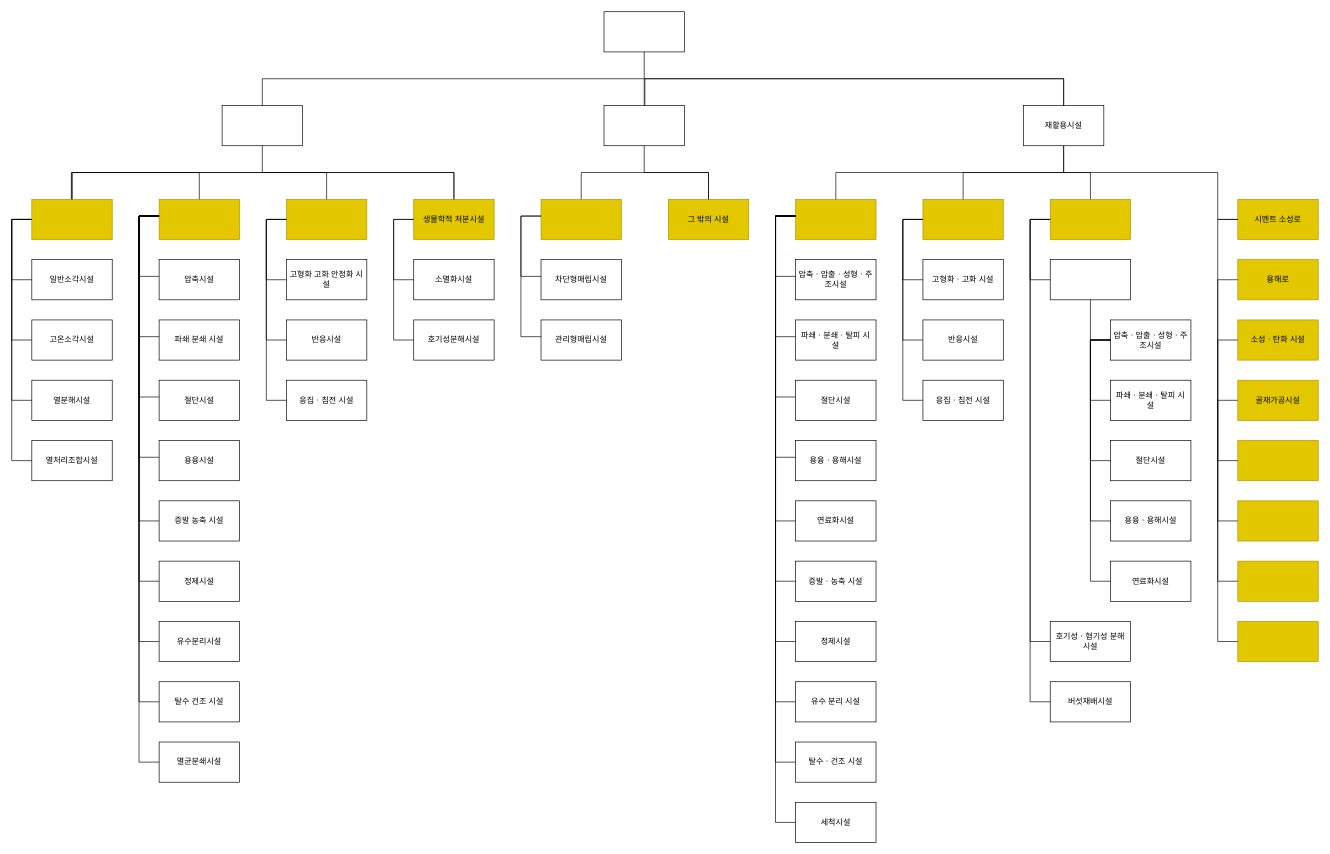
Some shapes in this 1330 by 854 pixel diagram are drawn without their labels. The centre of each missing label's shape, as x and y in pixels:
1일 재활용능력이 100킬로그램 이상인 다음의 시설: point 1090,279
그밖의 시설: point 1277,641
기계적 처분시설: point 199,219
기계적재활용시설: point 835,219
매립시설: point 580,219
생물학적재활용시설: point 1090,219
소각시설: point 71,219
소각열회수시설: point 1277,520
수은회수시설: point 1277,580
의약품 제조시설: point 1277,460
중간처분시설: point 262,125
최종처분시설: point 643,125
폐기물처리시설: point 643,31
화학적 처분시설: point 326,219
화학적재활용시설: point 962,219
